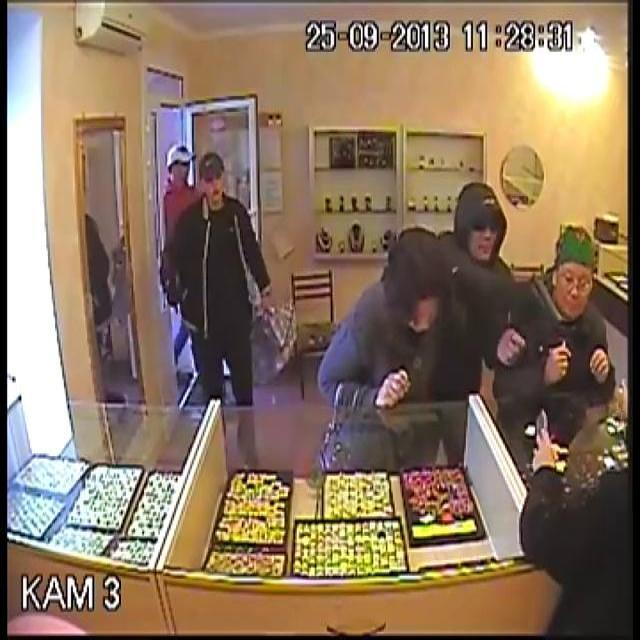pistol: (478, 284, 562, 386)
